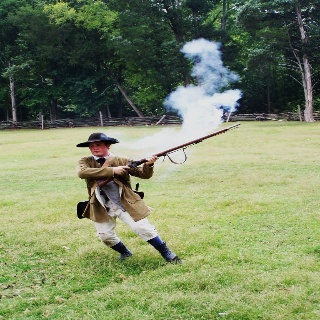rifle: (96, 122, 241, 187)
